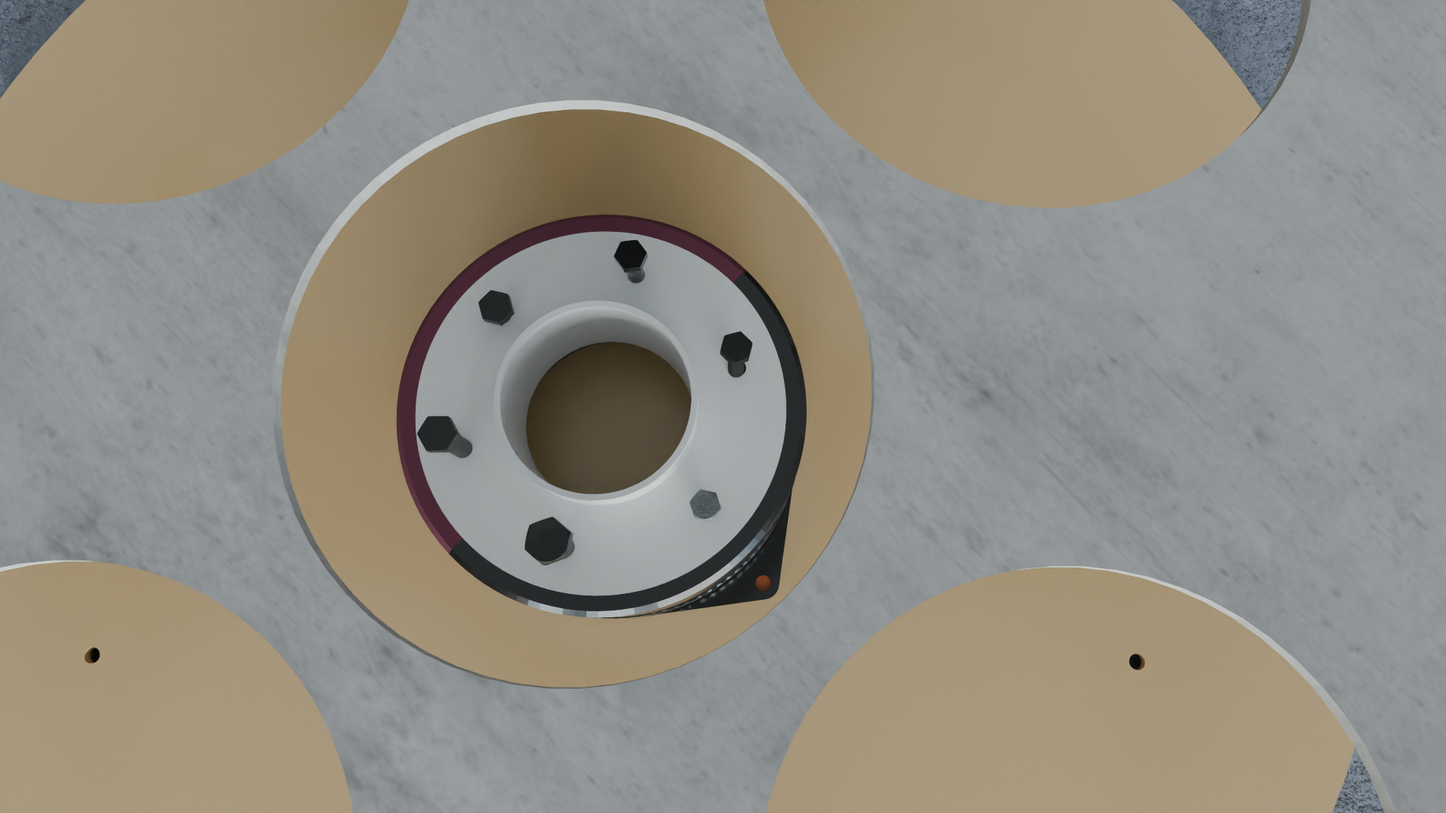bolt: (524, 516, 571, 565), (417, 416, 457, 451), (478, 290, 512, 323), (720, 331, 752, 363), (689, 489, 721, 520), (614, 240, 647, 269)
